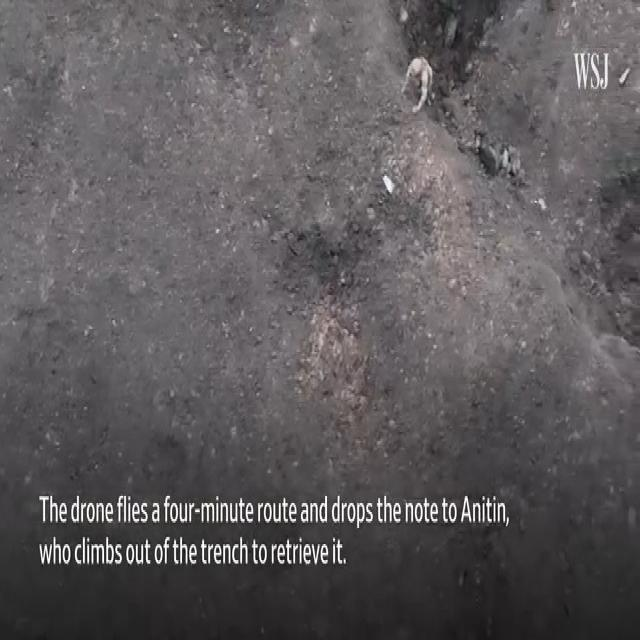MIL_Pax: (402, 58, 432, 113)
